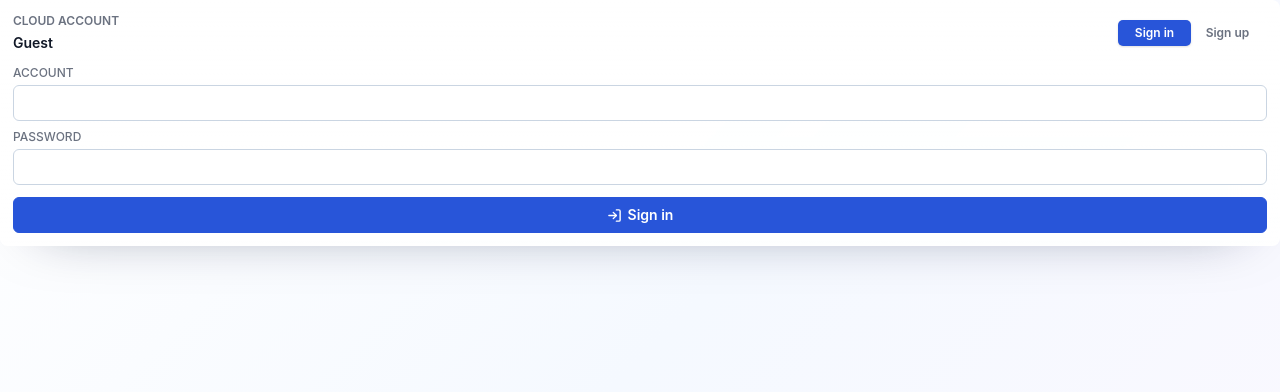
Test case: AuthPanel › renders sign-in fields and switches to sign-up fields
The image size is (1280, 392).
Check: the field labelled "Account" is shown, box [13,85,1267,121]
Check: the password field labelled "Password" is shown, box [13,149,1267,185]
Click the button "Sign up". click: {"x": 1228, "y": 33}
box: [1191,20,1264,46]
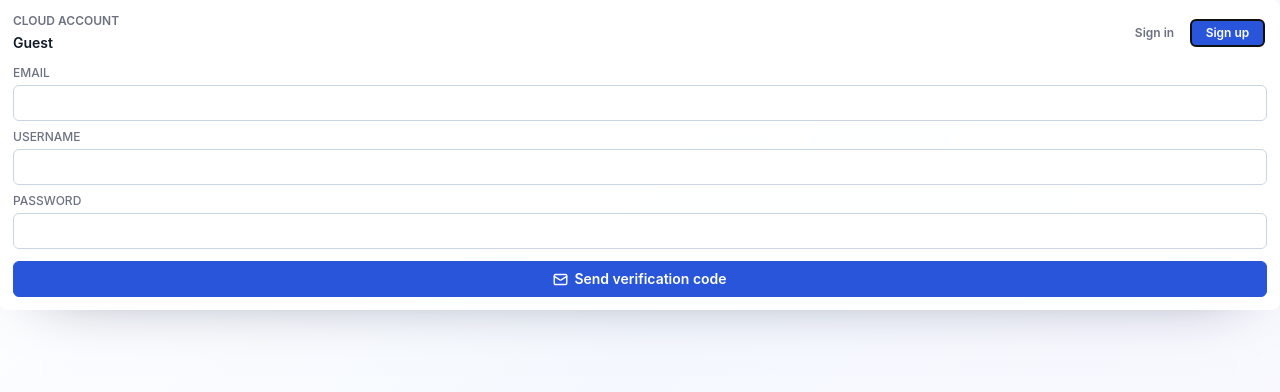
Check: the field labelled "Email" is shown, box [13,85,1267,121]
Check: the password field labelled "Password" is shown, box [13,213,1267,249]
